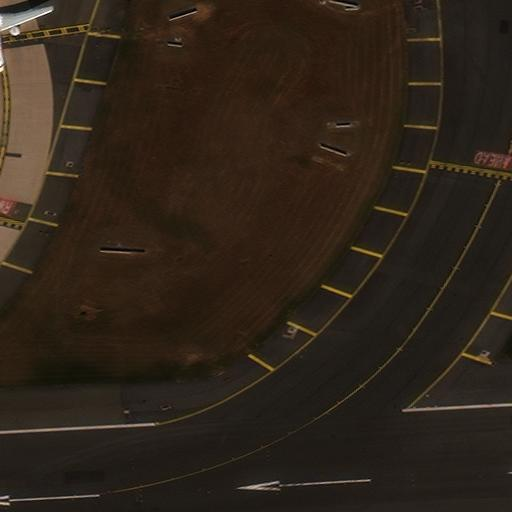Medium Civil Transport: (0, 0, 53, 72)
